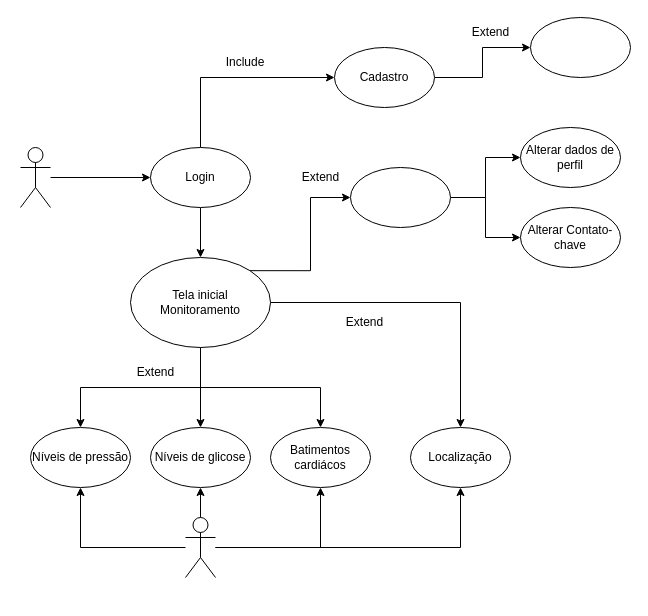
The diagram is 648 pixels wide and 616 high, and some of its shapes have lost their labels. Each missing label, with the centre of its shape:
Cliente: the point at 35,177
Contato-chave: the point at 200,547
Convidar o Contato-chave: the point at 580,47
Perfil: the point at 400,197
